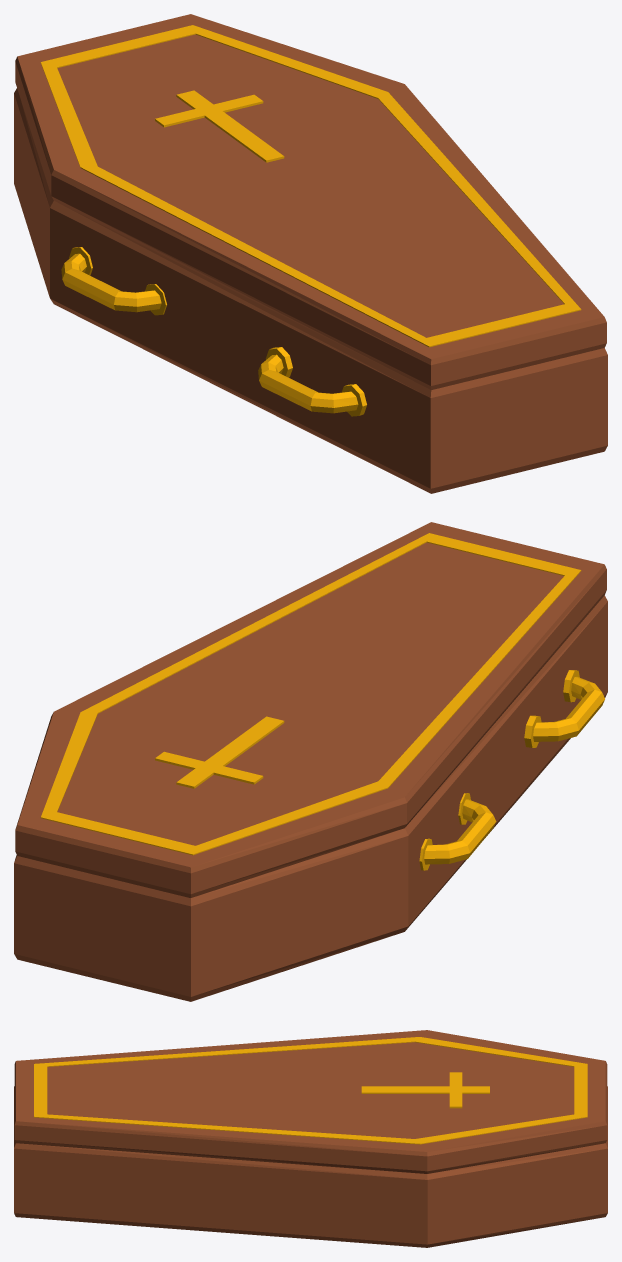
Rendered from coffin.gltf.
3 views of the same model, one above another, from view 1: azimuth 30°, elevation 25°; view 2: azimuth 150°, elevation 25°; view 3: azimuth 270°, elevation 25° (orthographic). The views are drawn at different scales.
Visible parts, largest first — view 1: node-0; view 2: node-0; view 3: node-0.
Part boxes in pixels (left/top/right/bottom): node-0: left=14, top=14, right=607, bottom=493; node-0: left=14, top=522, right=607, bottom=1001; node-0: left=14, top=1030, right=607, bottom=1247.
Size of the model in its own units: 1.58 by 0.5399 by 2.98.
